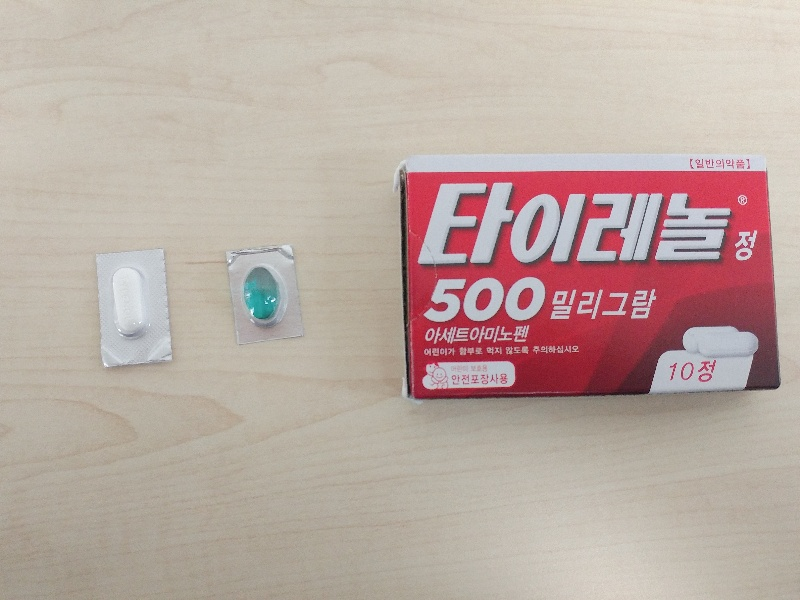pill_ezn: (227, 245, 304, 348)
pill_tylenol: (98, 250, 171, 366)
tylenol: (398, 154, 780, 403)
